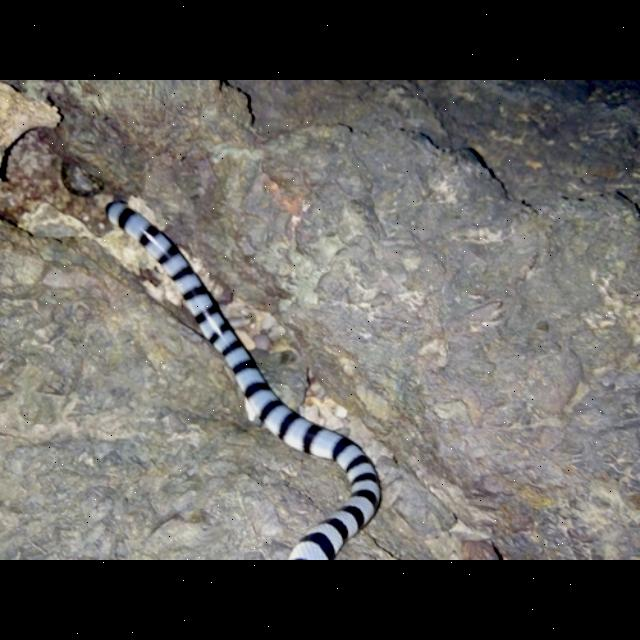snake: (91, 195, 393, 560)
